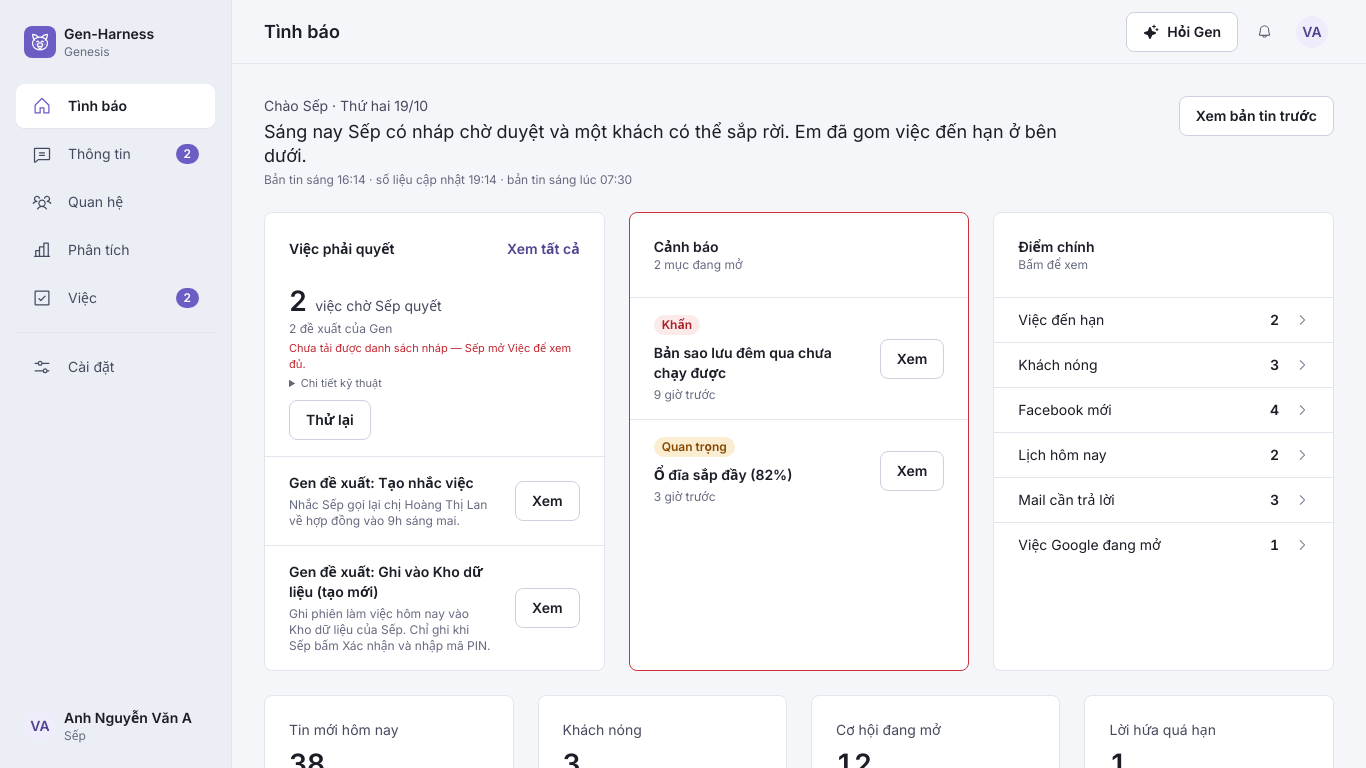
Test: OwnerShell › nút Hỏi Gen mở ngăn (hộp thoại), Esc đóng; ngăn nhúng khung chat Gen
The width and height of the screenshot is (1366, 768).
Click the button with test id "owner-ask-gen": (1182, 32) [1126,12,1238,52]
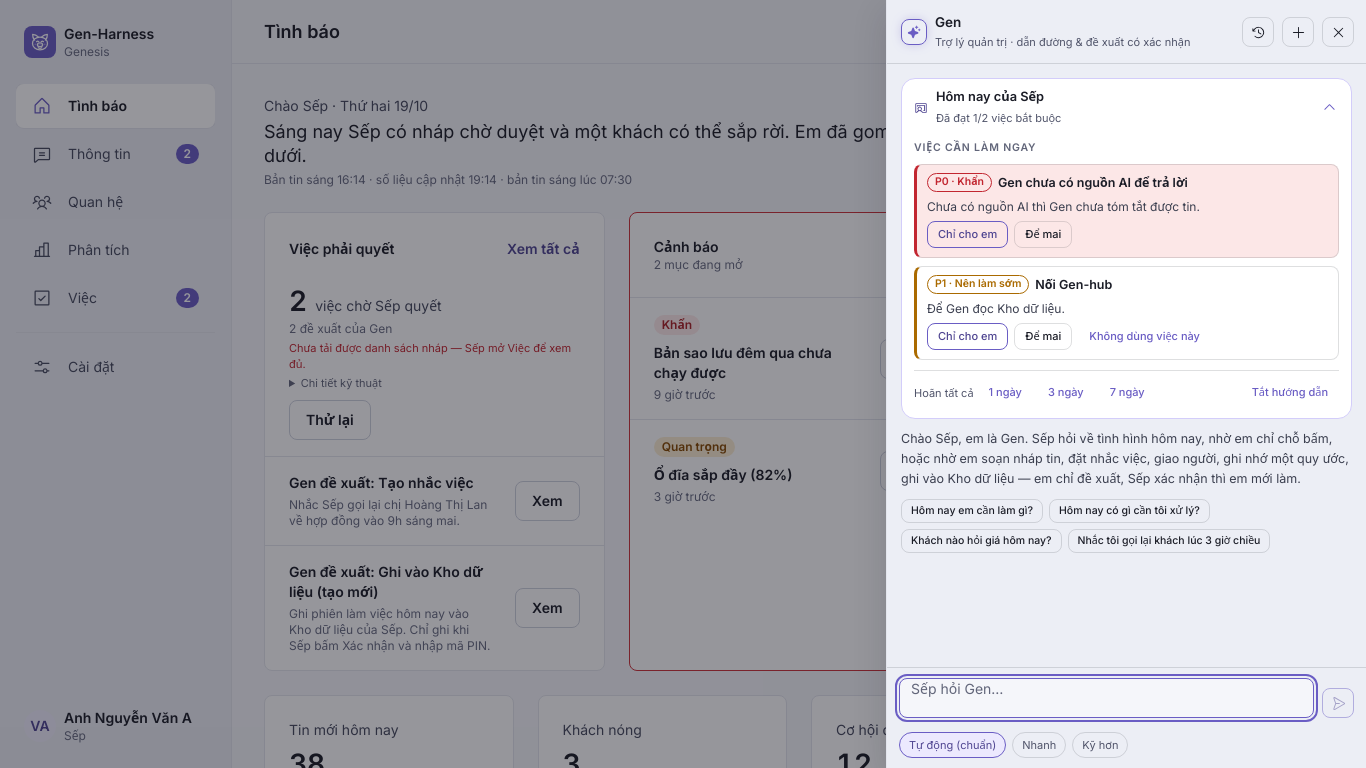
Now the element named "Gen — trợ lý quản trị" is shown, box [887,0,1365,767]
Now the text box named "Câu hỏi cho Gen" is shown, box [899,678,1314,718]
Press Escape
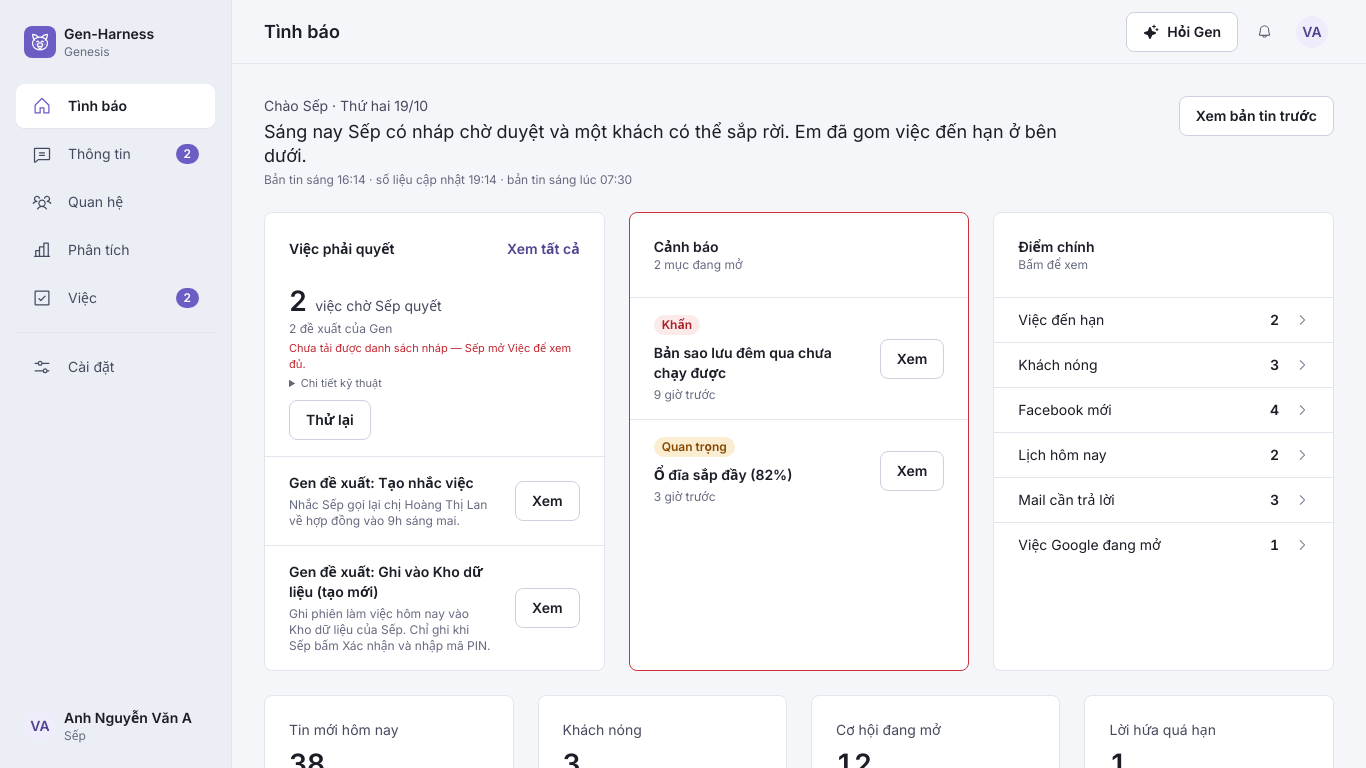
Now the dialog is gone
